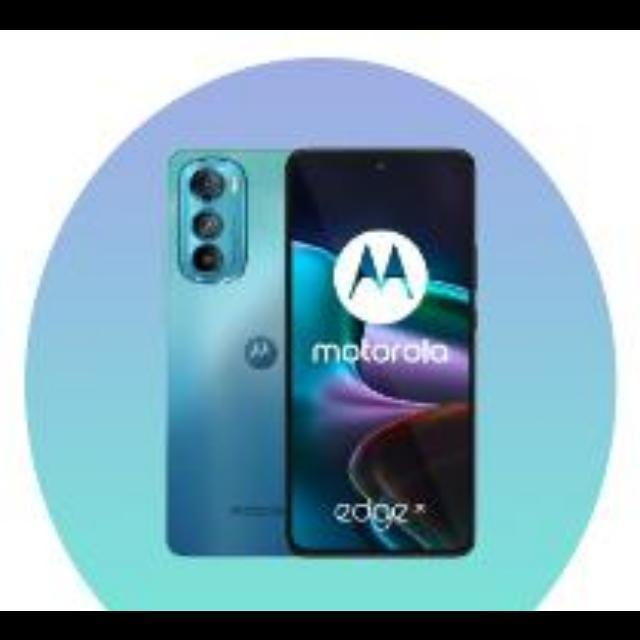phone: (160, 142, 476, 557), (284, 141, 480, 553)
